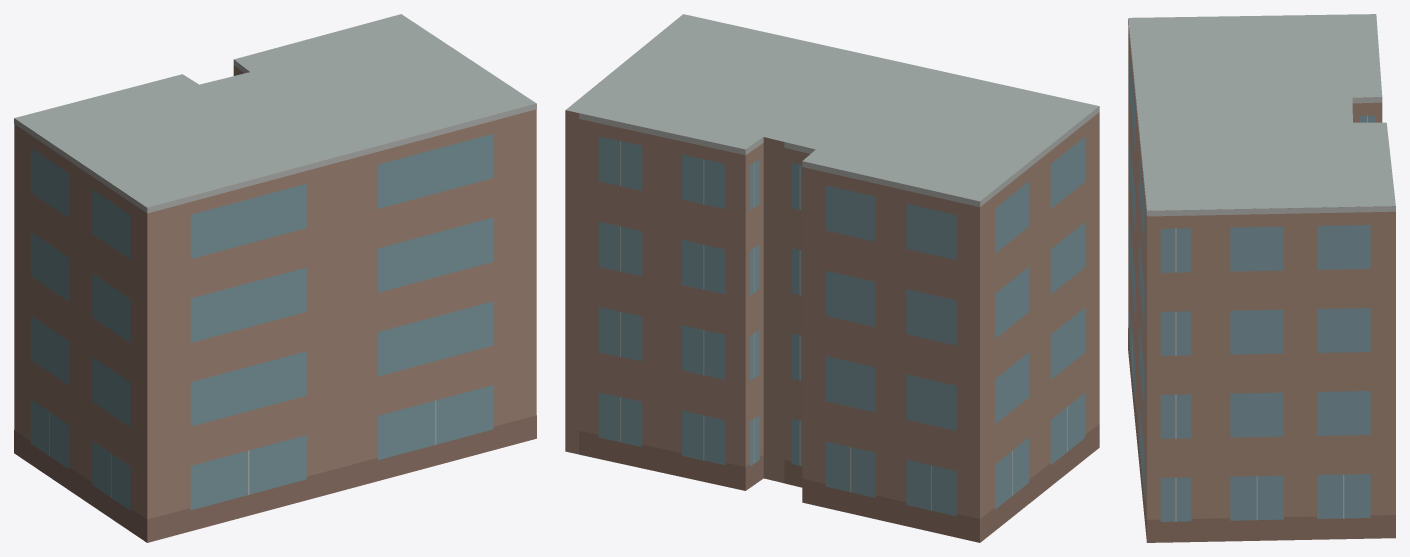
The model's file is survey-upis-33018272.glb.
3 views of the same model, side by side, from view 1: azimuth 30°, elevation 25°; view 2: azimuth 150°, elevation 25°; view 3: azimuth 270°, elevation 25° (orthographic). The views are drawn at different scales.
Parts seen in each view (by area): view 1: survey-upis-33018272.tmp; view 2: survey-upis-33018272.tmp; view 3: survey-upis-33018272.tmp.
Boxes of the visible parts, x1,y1,x2,y2 form: survey-upis-33018272.tmp: [14, 14, 536, 542]; survey-upis-33018272.tmp: [565, 14, 1099, 542]; survey-upis-33018272.tmp: [1128, 14, 1395, 542].
Size of the model in its own units: 18.25 by 14.35 by 10.49.
